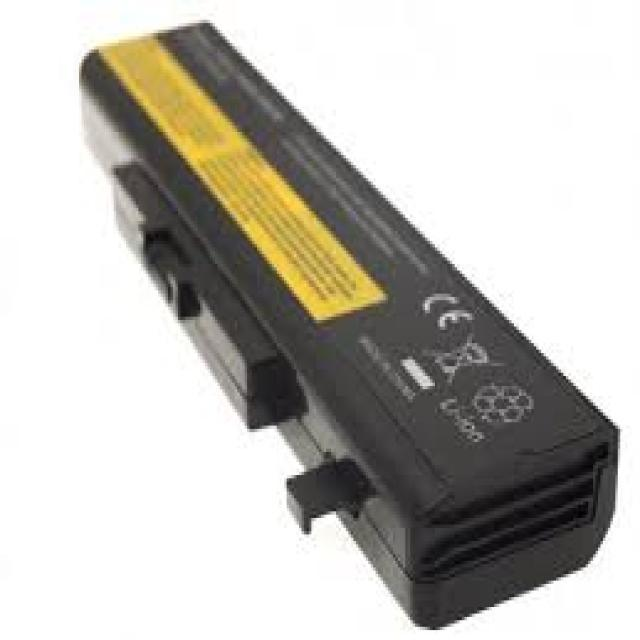Battery: (65, 7, 640, 640)
